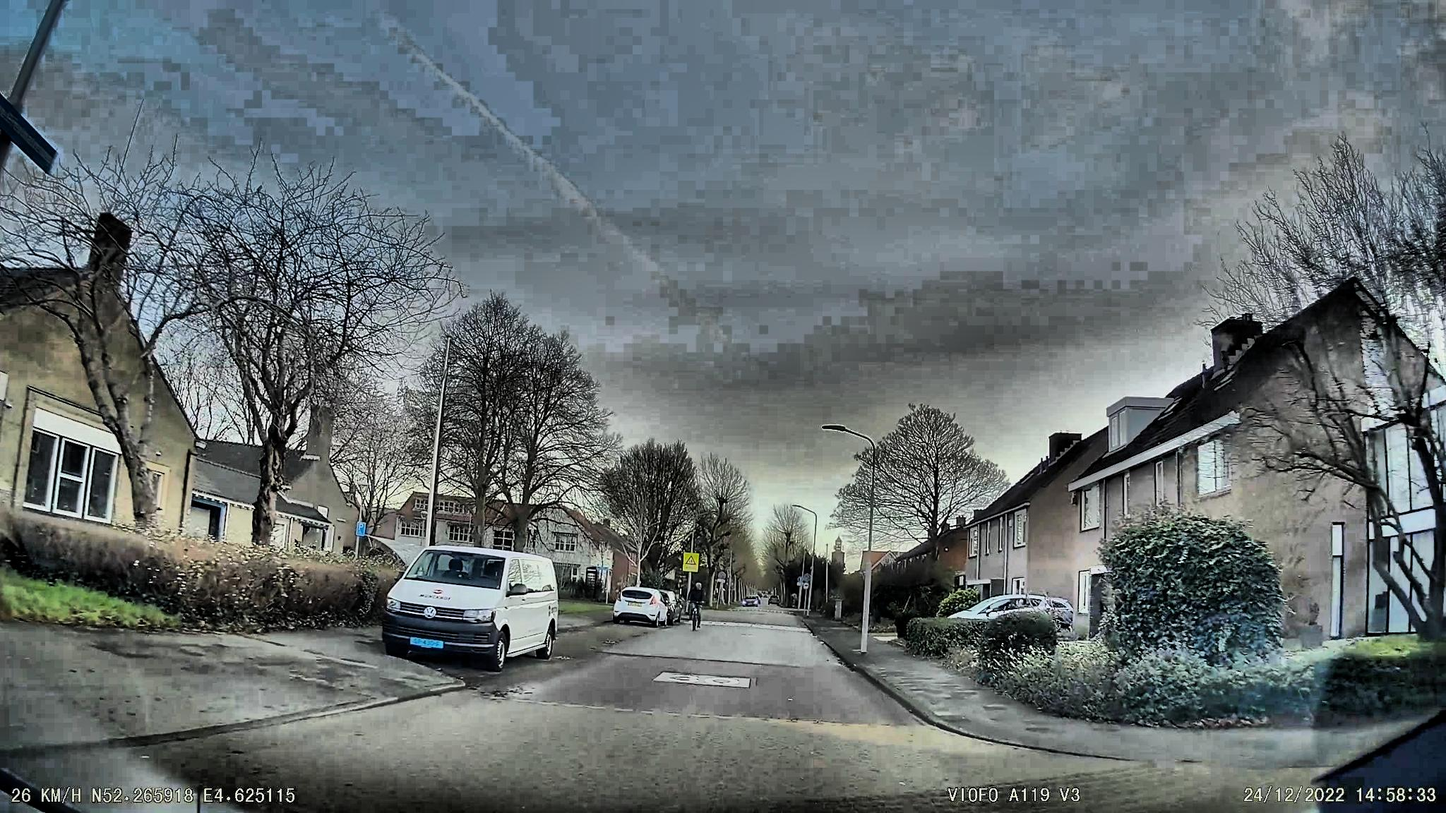Roads: (64, 628, 1345, 813)
